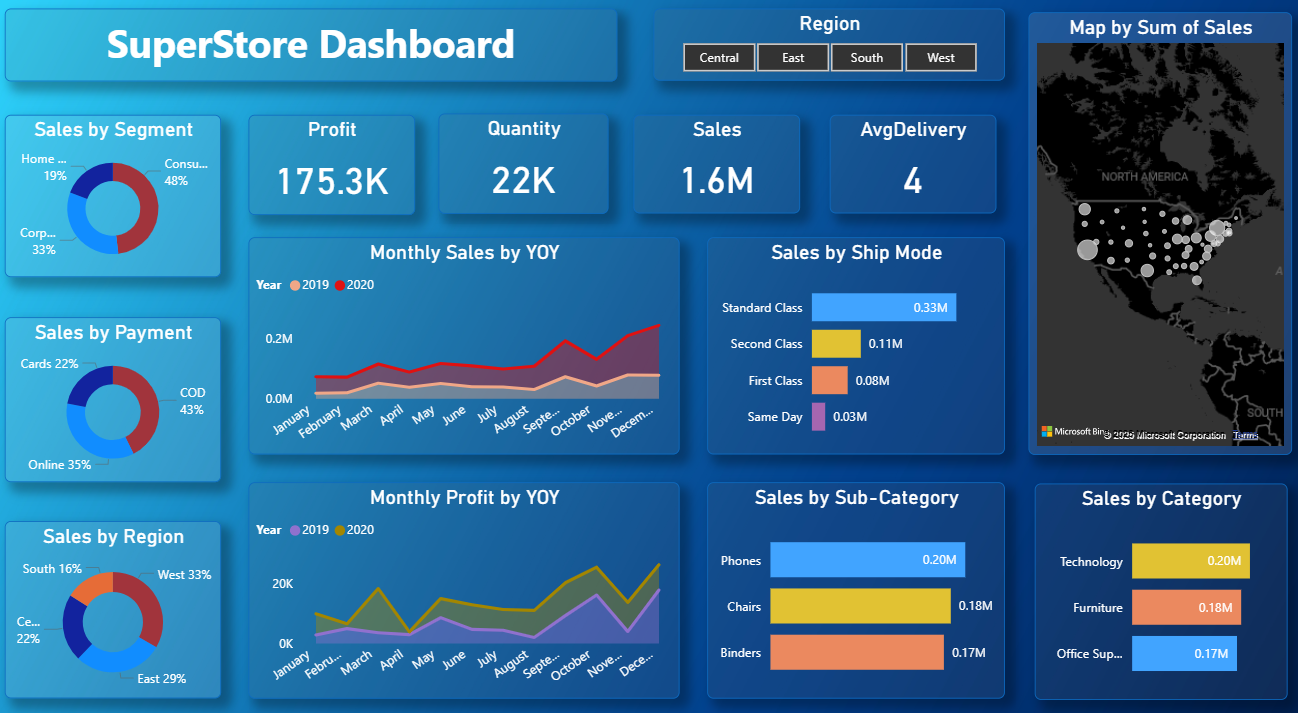

The page's visual inventory and layout, read from the dashboard file:
{"tool":"powerbi","page":{"name":"Page 1","canvas":[1280,720],"ordinal":0},"visuals":[{"type":"slicer","title":"Region","fields":{"Values":["SuperStore_Sales_Dataset (2).Region"]},"box":[639.4,16.9,339,70],"z":0},{"type":"clusteredBarChart","title":"Sales by Sub-Category","fields":{"Category":["SuperStore_Sales_Dataset (2).Sub-Category"],"Y":["Sum(SuperStore_Sales_Dataset (2).Sales)"]},"box":[691.3,474.1,287.1,208.7],"z":1000},{"type":"clusteredBarChart","title":"Sales by Ship Mode","fields":{"Y":["Sum(SuperStore_Sales_Dataset (2).Sales)"],"Category":["SuperStore_Sales_Dataset (2).Ship Mode"]},"box":[691.3,237.7,287.1,209.9],"z":2000},{"type":"stackedAreaChart","title":"Monthly Sales by YOY","fields":{"Category":["SuperStore_Sales_Dataset (2).Updated Order date.Variation.Date Hierarchy.Month","SuperStore_Sales_Dataset (2).Updated Order date.Variation.Date Hierarchy.Day"],"Y":["Sum(SuperStore_Sales_Dataset (2).Sales)"],"Series":["SuperStore_Sales_Dataset (2).Updated Order date.Variation.Date Hierarchy.Year"]},"box":[248.5,237.7,416.2,209.9],"z":3000},{"type":"stackedAreaChart","title":"Monthly Profit by YOY","fields":{"Category":["SuperStore_Sales_Dataset (2).Updated Order date.Variation.Date Hierarchy.Month","SuperStore_Sales_Dataset (2).Updated Order date.Variation.Date Hierarchy.Day"],"Series":["SuperStore_Sales_Dataset (2).Updated Order date.Variation.Date Hierarchy.Year"],"Y":["Sum(SuperStore_Sales_Dataset (2).Profit)"]},"box":[248.5,474.1,416.2,208.7],"z":4000},{"type":"map","title":"Map by Sum of Sales","fields":{"Category":["SuperStore_Sales_Dataset (2).State"],"Size":["Sum(SuperStore_Sales_Dataset (2).Sales)"]},"box":[1001.3,20.5,254.6,427.1],"z":5000},{"type":"donutChart","title":"Sales by Segment","fields":{"Category":["SuperStore_Sales_Dataset (2).Segment"],"Y":["Sum(SuperStore_Sales_Dataset (2).Sales)"]},"box":[13.3,119.4,208.7,156.8],"z":6000},{"type":"donutChart","title":"Sales by Payment","fields":{"Y":["Sum(SuperStore_Sales_Dataset (2).Sales)"],"Category":["SuperStore_Sales_Dataset (2).Payment Mode"]},"box":[13.3,314.9,208.7,159.3],"z":7000},{"type":"donutChart","title":"Sales by Region","fields":{"Y":["Sum(SuperStore_Sales_Dataset (2).Sales)"],"Category":["SuperStore_Sales_Dataset (2).Region"]},"box":[13.3,511.5,208.7,171.3],"z":8000},{"type":"textbox","box":[13.5,17.2,591.5,70.1],"z":9000},{"type":"card","title":"Profit","fields":{"Values":["Sum(SuperStore_Sales_Dataset (2).Profit)"]},"box":[248.5,119.4,160.5,96.5],"z":11000},{"type":"card","title":"Quantity","fields":{"Values":["Sum(SuperStore_Sales_Dataset (2).Quantity)"]},"box":[431.9,118.2,164.1,96.5],"z":12000},{"type":"card","title":"Sales","fields":{"Values":["Sum(SuperStore_Sales_Dataset (2).Sales)"]},"box":[620.1,119.4,160.5,95.3],"z":13000},{"type":"card","title":"AvgDelivery","fields":{"Values":["Avg(SuperStore_Sales_Dataset (2).AverageDelivery)"]},"box":[809.5,119.4,160.5,95.3],"z":14000},{"type":"clusteredBarChart","title":"Sales by Category","fields":{"Y":["Sum(SuperStore_Sales_Dataset (2).Sales)"],"Category":["SuperStore_Sales_Dataset (2).Category"]},"box":[1007.4,475.3,243.7,208.7],"z":15000}]}

Visuals, with their boxes in screenshot pixels (x1, y1, x2, y2), scaled from the page's 1280x720 canvas onto the 1298x713 screenshot:
"Region" slicer: (left=648, top=17, right=992, bottom=86)
"Sales by Sub-Category" clusteredBarChart: (left=701, top=469, right=992, bottom=676)
"Sales by Ship Mode" clusteredBarChart: (left=701, top=235, right=992, bottom=443)
"Monthly Sales by YOY" stackedAreaChart: (left=252, top=235, right=674, bottom=443)
"Monthly Profit by YOY" stackedAreaChart: (left=252, top=469, right=674, bottom=676)
"Map by Sum of Sales" map: (left=1015, top=20, right=1274, bottom=443)
"Sales by Segment" donutChart: (left=13, top=118, right=225, bottom=274)
"Sales by Payment" donutChart: (left=13, top=312, right=225, bottom=470)
"Sales by Region" donutChart: (left=13, top=507, right=225, bottom=676)
textbox: (left=14, top=17, right=614, bottom=86)
"Profit" card: (left=252, top=118, right=415, bottom=214)
"Quantity" card: (left=438, top=117, right=604, bottom=213)
"Sales" card: (left=629, top=118, right=792, bottom=213)
"AvgDelivery" card: (left=821, top=118, right=984, bottom=213)
"Sales by Category" clusteredBarChart: (left=1022, top=471, right=1269, bottom=677)
